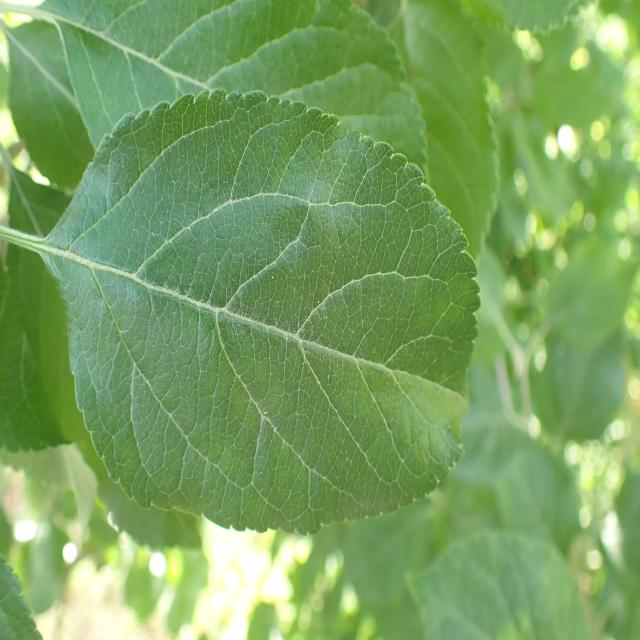healthy: (44, 87, 483, 536), (400, 0, 499, 264), (0, 168, 90, 454)
